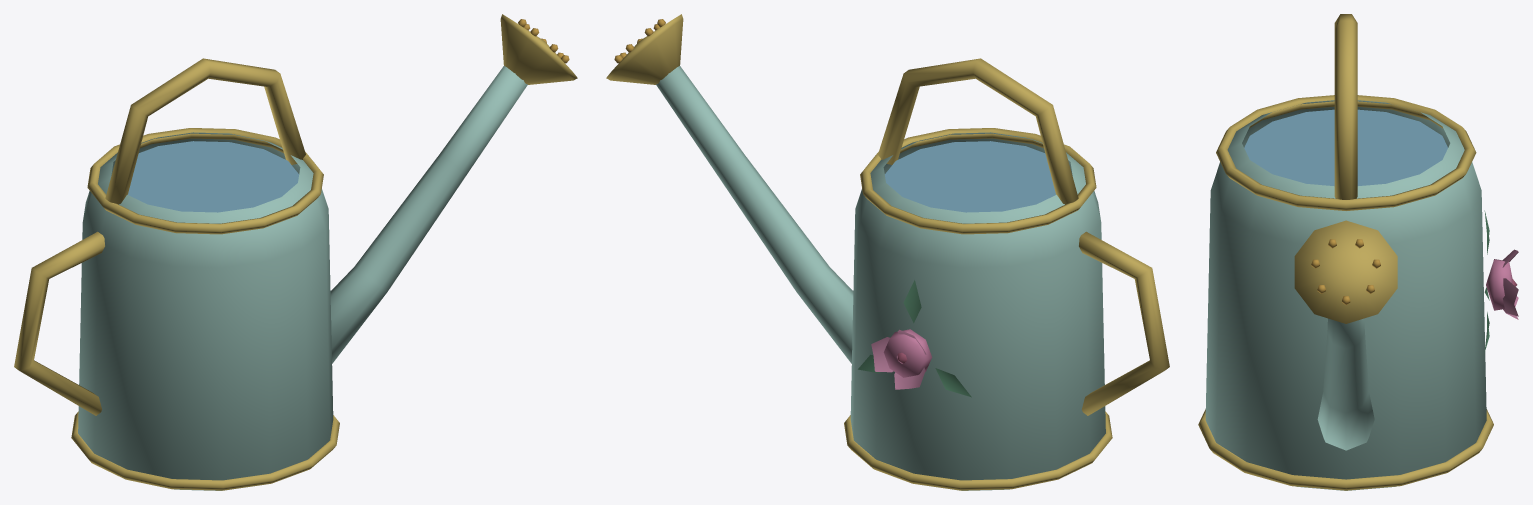
The model's file is watering_can.glb.
The picture shows the model from 3 angles, left to right: view 1: azimuth 30°, elevation 25°; view 2: azimuth 150°, elevation 25°; view 3: azimuth 270°, elevation 25°; orthographic projection. The views are drawn at different scales.
Visible parts, largest first — view 1: watering_can; view 2: watering_can; view 3: watering_can.
Part boxes in pixels (x1,y1,x2,y2): watering_can: (14,14,577,490); watering_can: (606,14,1169,490); watering_can: (1198,14,1518,490).
Size of what is drawn, in the model's own units: 0.668 by 0.44 by 0.308.
